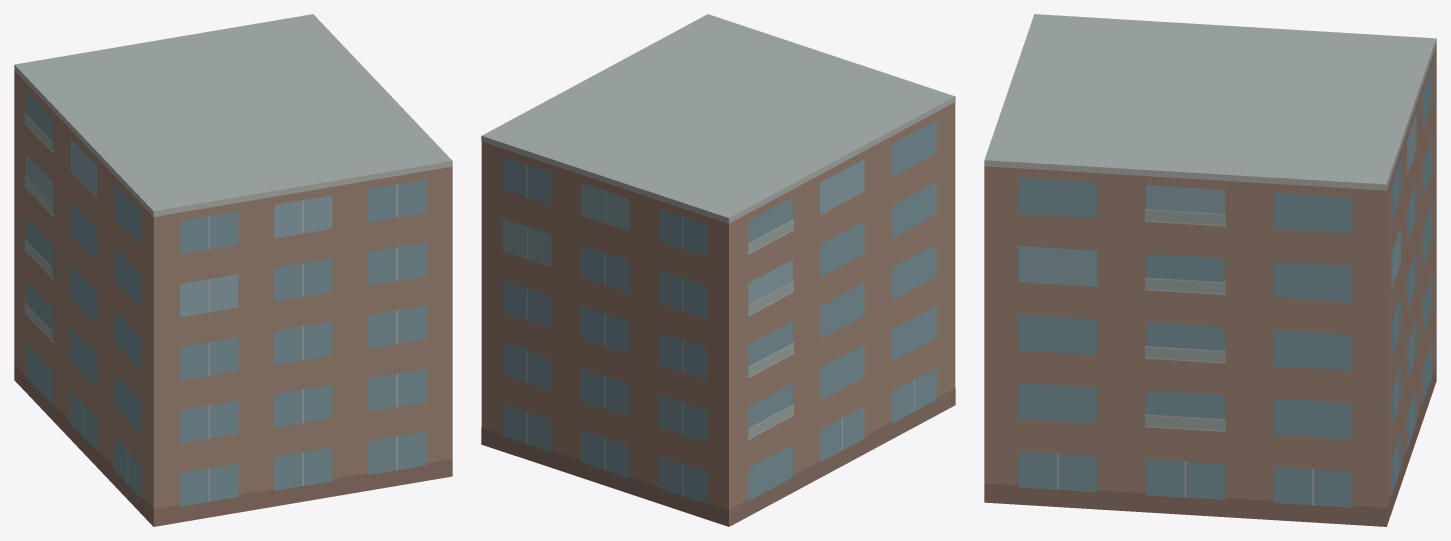
The model's file is survey-upis-32959914.glb.
The picture shows the model from 3 angles, left to right: view 1: azimuth 30°, elevation 25°; view 2: azimuth 150°, elevation 25°; view 3: azimuth 270°, elevation 25°; orthographic projection. The views are drawn at different scales.
Visible parts, largest first — view 1: survey-upis-32959914.tmp; view 2: survey-upis-32959914.tmp; view 3: survey-upis-32959914.tmp.
Part boxes in pixels (x1,y1,x2,y2): survey-upis-32959914.tmp: (14,14,452,526); survey-upis-32959914.tmp: (481,14,955,526); survey-upis-32959914.tmp: (984,14,1436,526).
Bounding box in the file's own units: 14.59 × 13.65 × 16.35.
